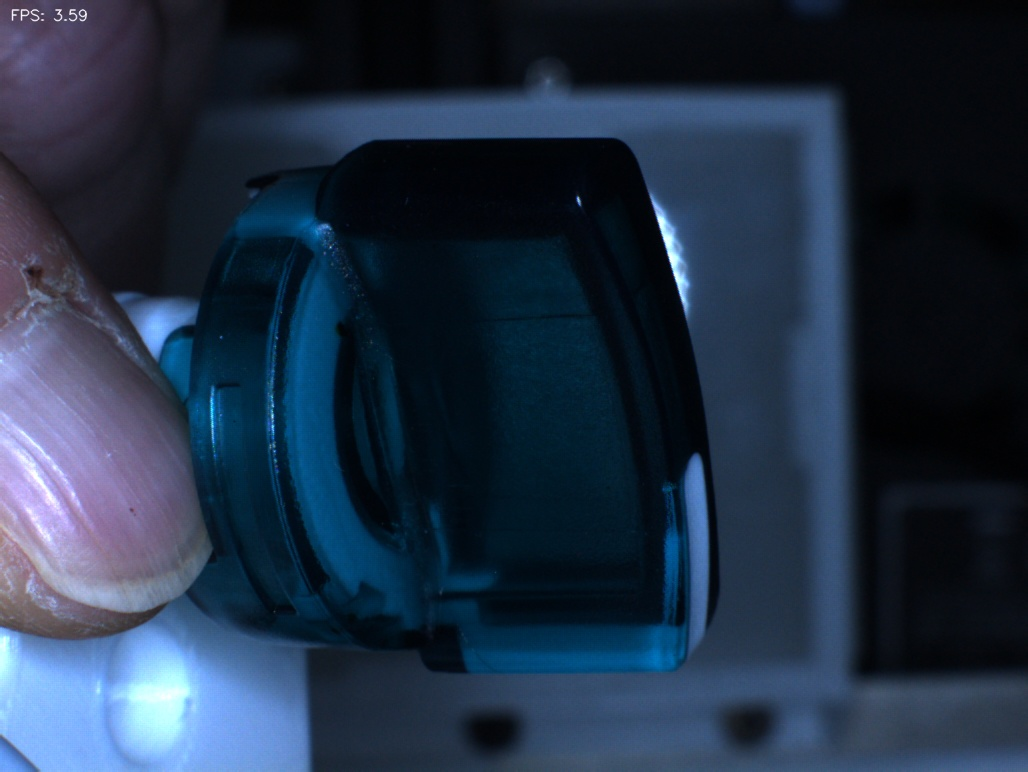PointNoir: (303, 293, 383, 363)
